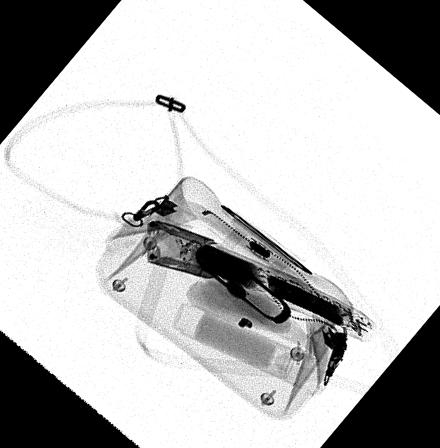Baton: (144, 218, 376, 343)
